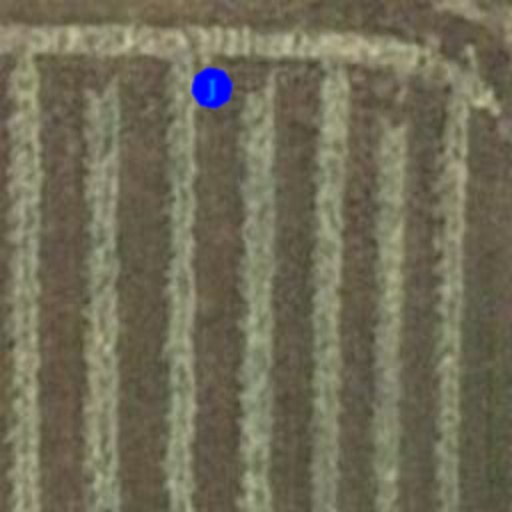octagon: (186, 62, 238, 114)
